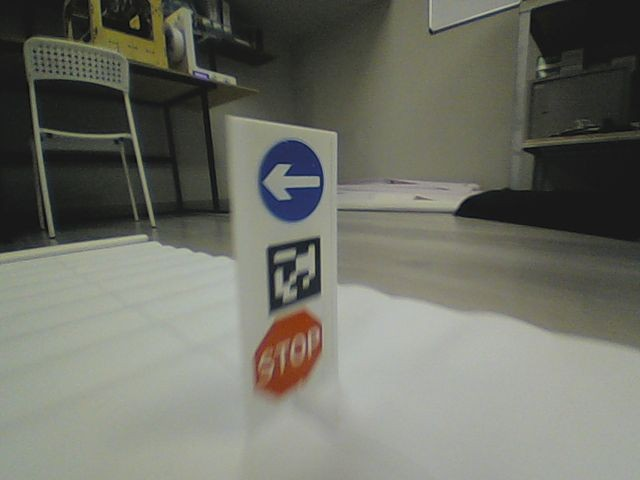Stop: (252, 310, 326, 397)
